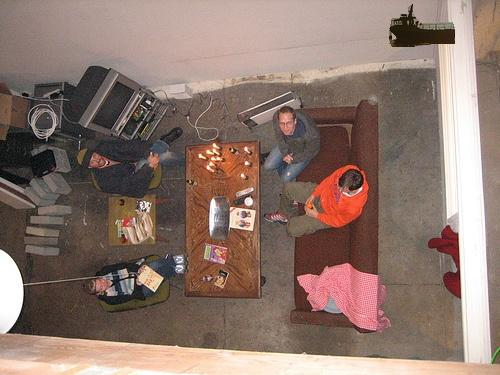tampered: (390, 5, 455, 47)
